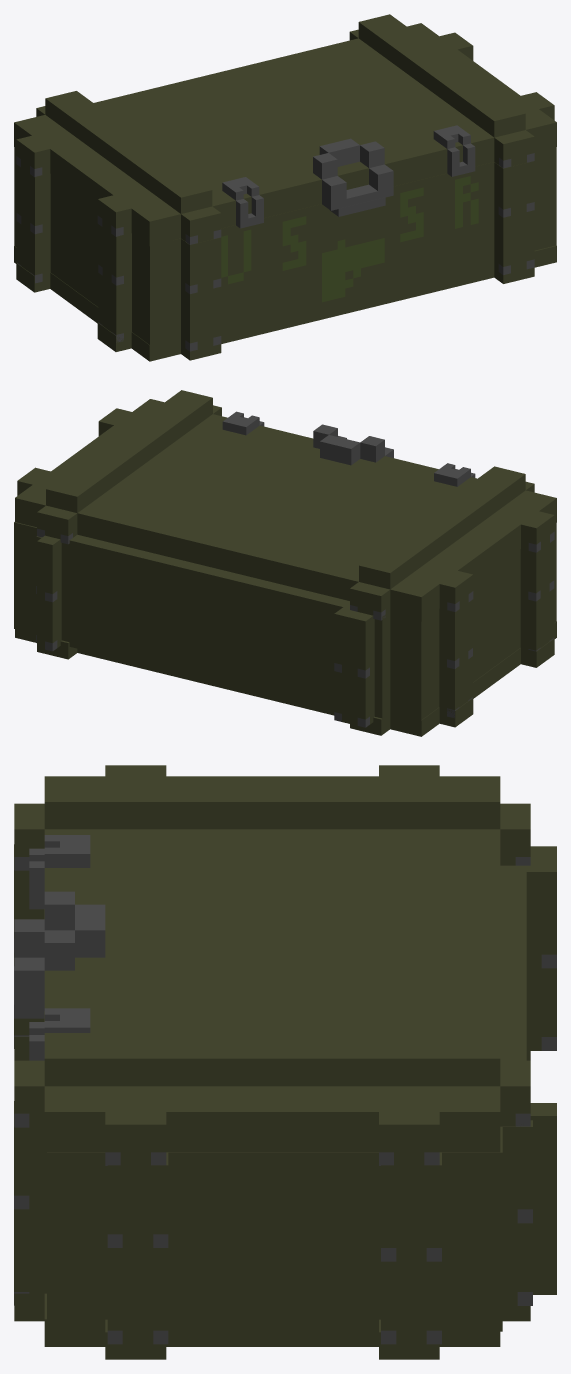
Rendered from box_with_weapon.glb.
3 renders of one model, top to bottom at view 1: azimuth 30°, elevation 25°; view 2: azimuth 150°, elevation 25°; view 3: azimuth 270°, elevation 25°, orthographic. The views are drawn at different scales.
Parts seen in each view (by area): view 1: vverh, pered, left, niz, right; view 2: vverh, zad, left, niz, right; view 3: vverh, right, zad, niz, pered.
Part boxes in pixels (x1=…): vverh: x1=14, y1=14, x2=556, y2=246; pered: x1=173, y1=161, x2=534, y2=351; left: x1=14, y1=147, x2=172, y2=352; niz: x1=14, y1=245, x2=556, y2=361; right: x1=534, y1=147, x2=556, y2=250; vverh: x1=15, y1=390, x2=556, y2=621; zad: x1=37, y1=534, x2=390, y2=727; left: x1=390, y1=523, x2=556, y2=727; niz: x1=15, y1=621, x2=556, y2=736; right: x1=14, y1=522, x2=41, y2=642; vverh: x1=14, y1=765, x2=530, y2=1165; right: x1=47, y1=1120, x2=532, y2=1344; zad: x1=500, y1=846, x2=556, y2=1294; niz: x1=14, y1=1036, x2=530, y2=1359; pered: x1=14, y1=844, x2=46, y2=1305.
Size of the model in its own units: 5.6 by 1.91 by 3.57.
